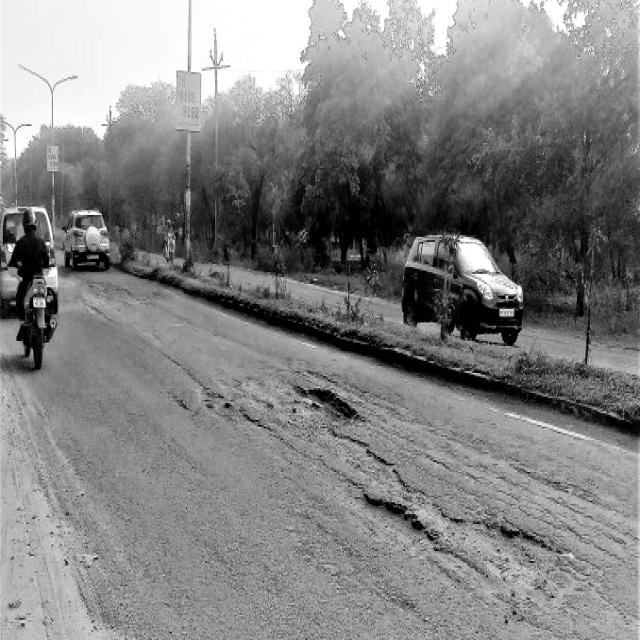pathole: (158, 350, 577, 610)
